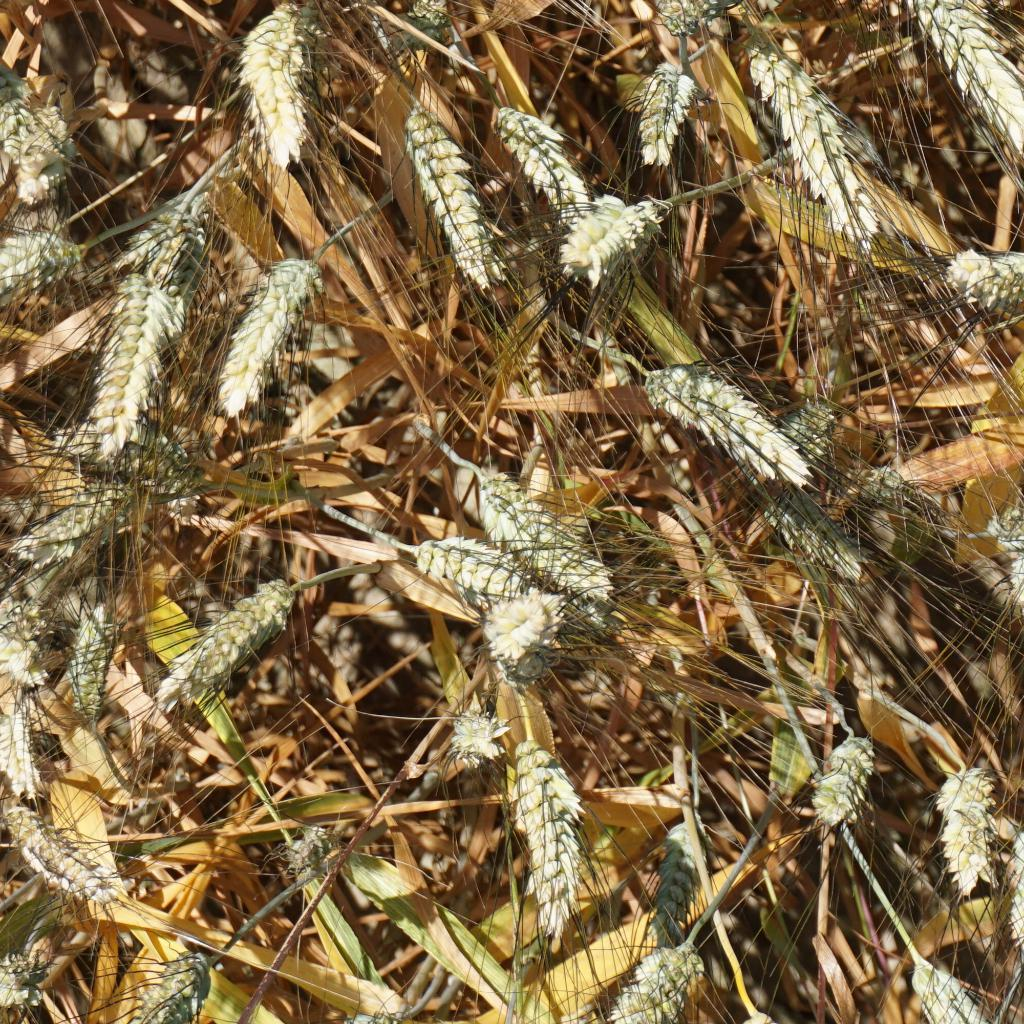0-0: (884, 0, 1024, 175), (756, 48, 877, 246), (644, 364, 807, 486), (399, 111, 506, 287), (153, 570, 292, 705), (479, 470, 612, 595), (233, 0, 326, 176), (506, 738, 587, 938), (219, 254, 316, 418), (2, 475, 146, 569), (99, 277, 175, 440), (54, 412, 179, 490), (489, 109, 590, 204), (554, 196, 656, 283), (415, 524, 521, 600), (0, 220, 80, 311), (624, 932, 709, 1015), (760, 500, 856, 571), (934, 768, 994, 880), (932, 234, 1024, 305), (638, 60, 698, 166), (797, 732, 870, 817), (68, 598, 118, 722), (133, 947, 212, 1024), (24, 824, 106, 897), (643, 815, 699, 921), (7, 100, 68, 192), (476, 603, 561, 669), (0, 701, 52, 806), (0, 587, 51, 691), (136, 183, 195, 265), (994, 817, 1024, 952), (283, 810, 338, 883), (0, 42, 41, 137), (771, 402, 836, 460), (449, 699, 510, 760), (844, 457, 908, 513), (0, 942, 54, 1008), (643, 0, 749, 27), (405, 0, 453, 58), (976, 504, 1024, 556), (999, 512, 1024, 610)
